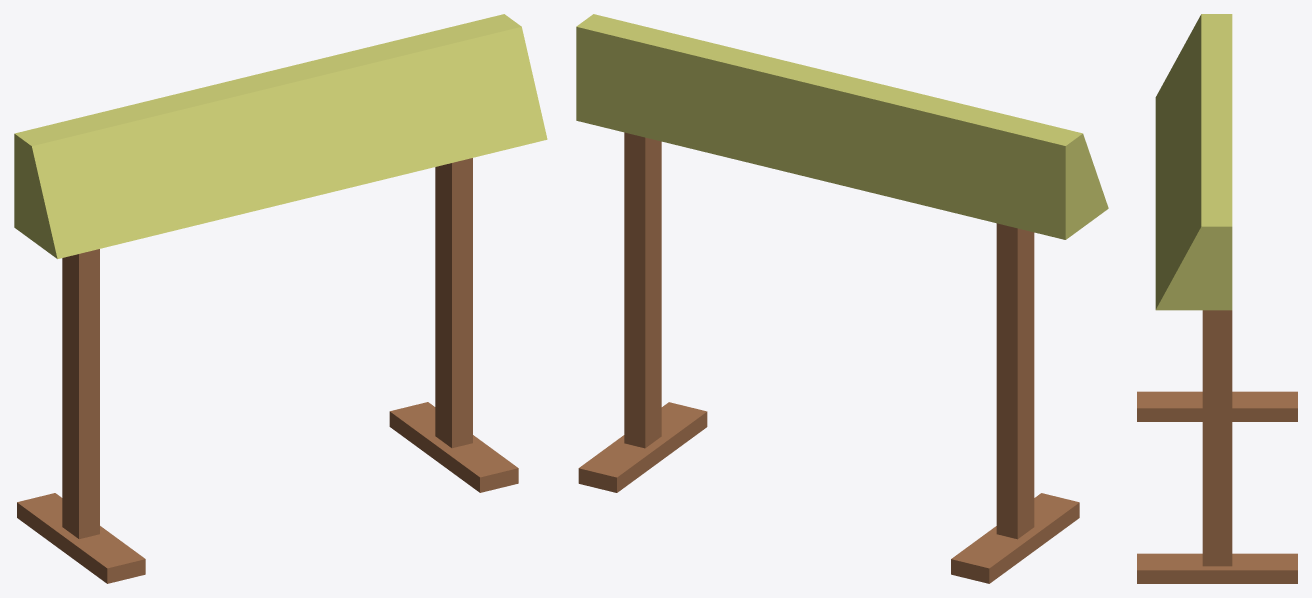
File: ObstaculoDos_Unity.fbx
The picture shows the model from 3 angles, left to right: view 1: azimuth 30°, elevation 25°; view 2: azimuth 150°, elevation 25°; view 3: azimuth 270°, elevation 25°; orthographic projection. The views are drawn at different scales.
Visible parts, largest first — view 1: pCube3; view 2: pCube3; view 3: pCube3.
Boxes of the visible parts, x1,y1,x2,y2 form: pCube3: (14,14,547,583); pCube3: (576,14,1108,583); pCube3: (1137,14,1297,583).
Size of the model in its own units: 216 by 177 by 69.13.
